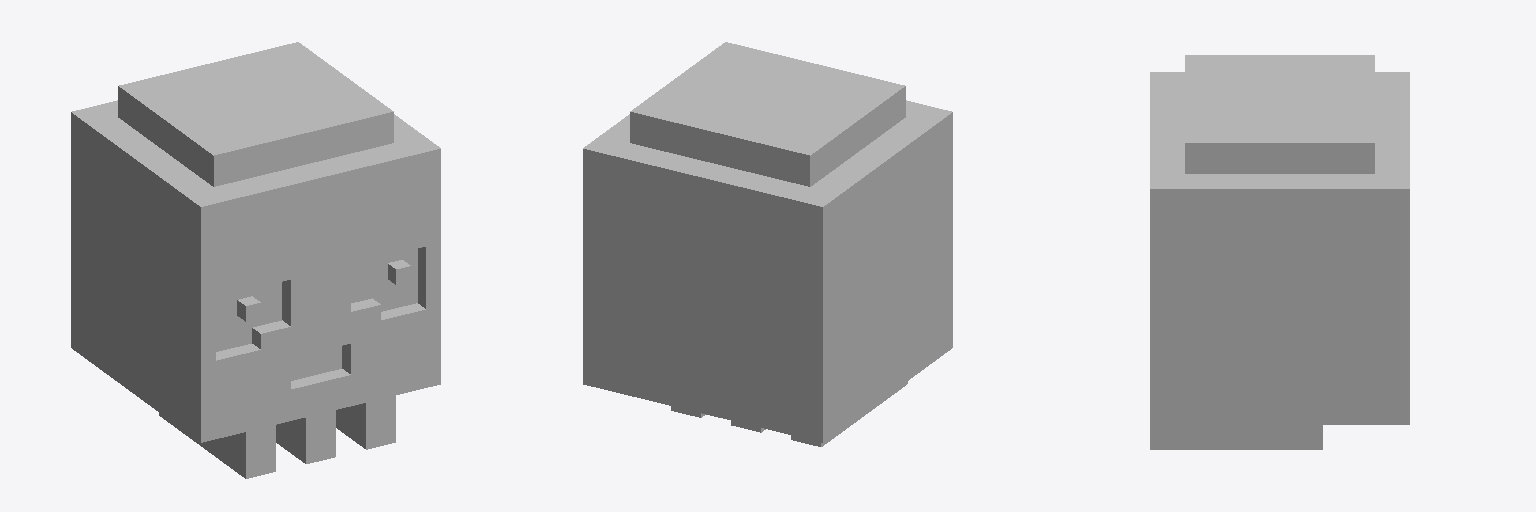
Rendered from desert_skull.obj.
3 views of the same model, side by side, from view 1: azimuth 30°, elevation 25°; view 2: azimuth 150°, elevation 25°; view 3: azimuth 270°, elevation 25° (orthographic).
Parts seen in each view (by area): view 1: object 1; view 2: object 1; view 3: object 1.
Part boxes in pixels (left/top/right/bottom): object 1: left=71, top=42, right=440, bottom=478; object 1: left=583, top=42, right=952, bottom=446; object 1: left=1150, top=55, right=1409, bottom=449.
Bounding box in the file's own units: 1.6 × 2 × 1.5.